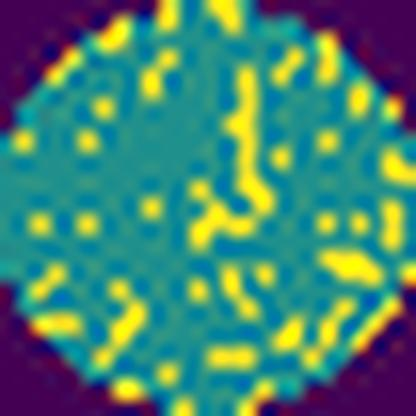Scratch: (183, 65, 280, 252)
